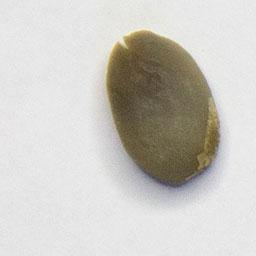premium: (103, 27, 223, 188)
